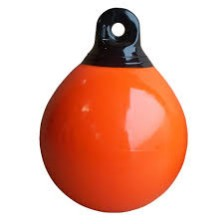buoy: (40, 8, 188, 213)
